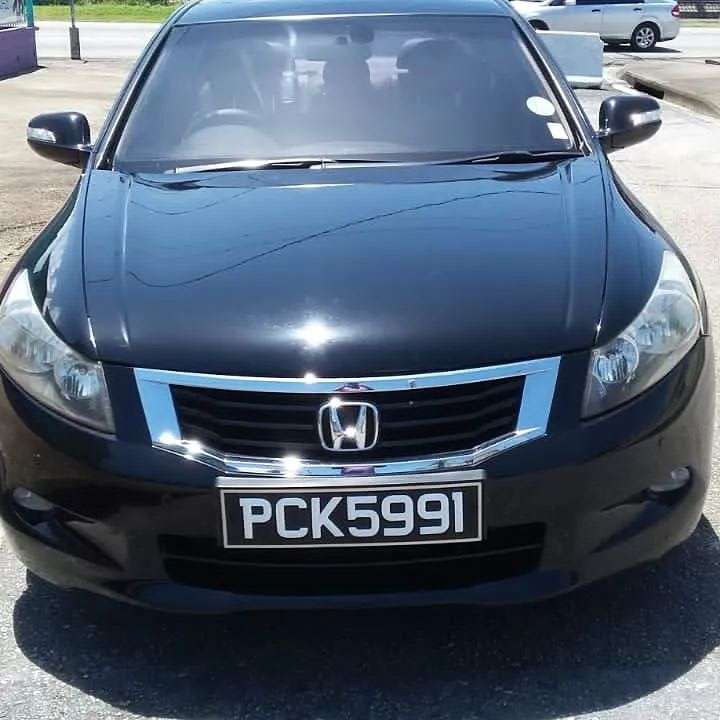License-Plate: (223, 494, 478, 547)
